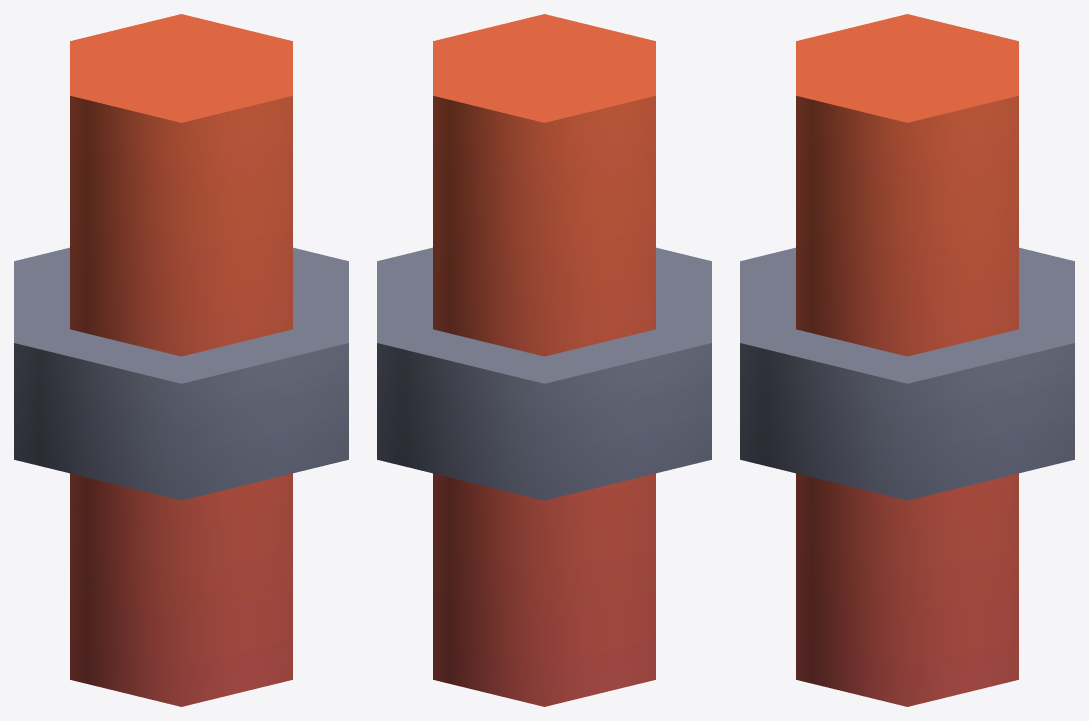
Rendered from pipe-half-section.glb.
3 renders of one model, left to right at view 1: azimuth 30°, elevation 25°; view 2: azimuth 150°, elevation 25°; view 3: azimuth 270°, elevation 25°, orthographic.
Parts seen in each view (by area): view 1: pipe-half-section; view 2: pipe-half-section; view 3: pipe-half-section.
Boxes of the visible parts, x1,y1,x2,y2 form: pipe-half-section: (14,14,348,706); pipe-half-section: (377,14,711,706); pipe-half-section: (740,14,1074,706).
Bounding box in the file's own units: 0.3 × 0.5 × 0.2598.
1 material, 1 textured.
